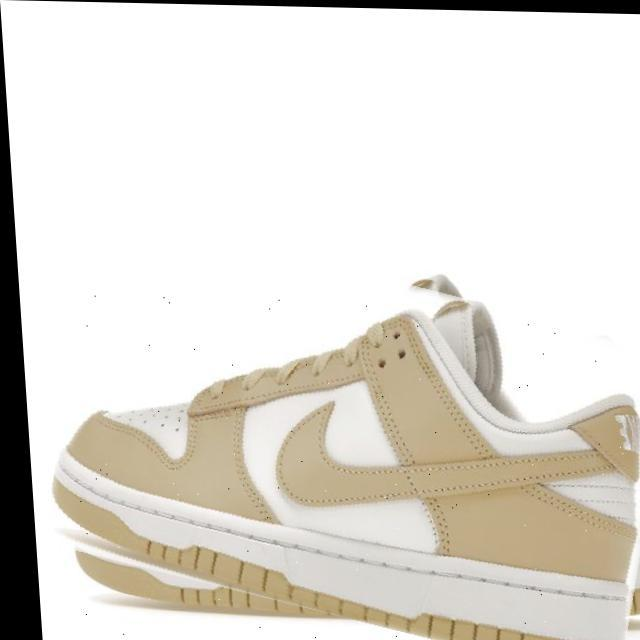J1_ShoeLogo: (51, 273, 638, 638)
J1_StitchPattern: (188, 313, 634, 543), (51, 469, 552, 638), (134, 535, 539, 638), (188, 315, 430, 420), (354, 317, 454, 555), (397, 312, 490, 457), (140, 537, 294, 610), (355, 319, 415, 465)
